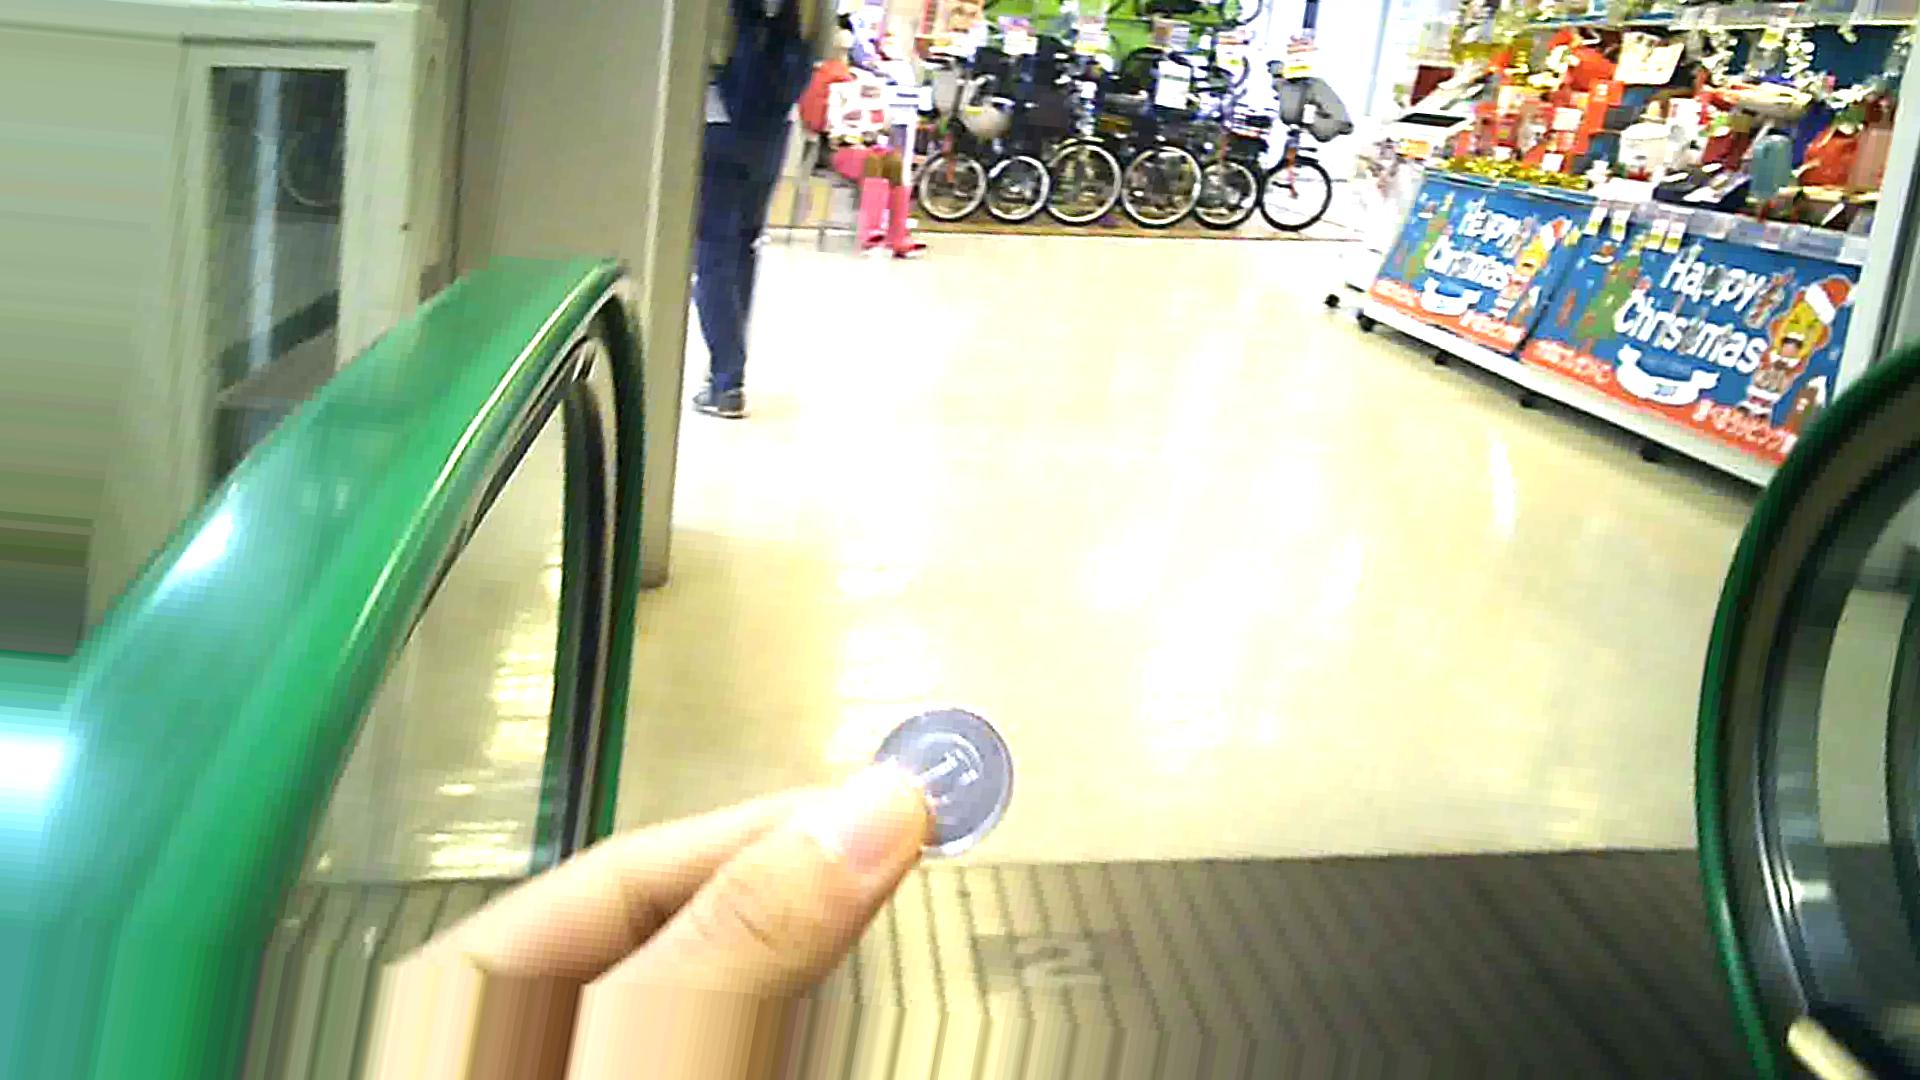1 Yen: (864, 700, 1019, 855)
